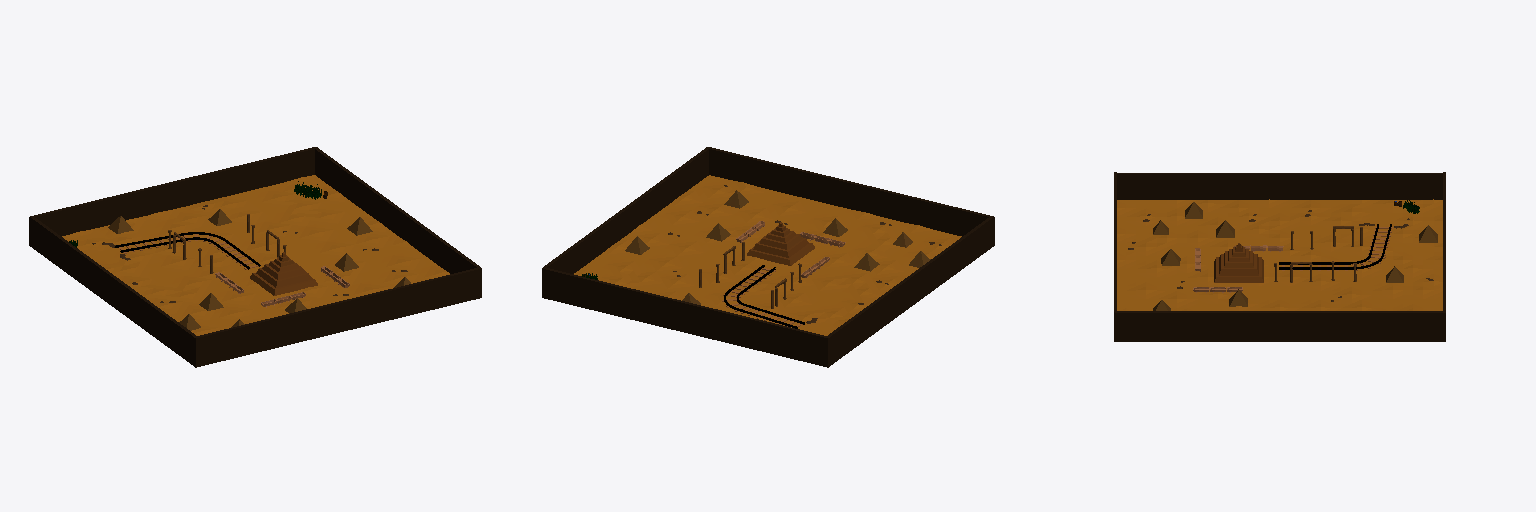
Rendered from Egypt_West.obj.
3 renders of one model, left to right at view 1: azimuth 30°, elevation 25°; view 2: azimuth 150°, elevation 25°; view 3: azimuth 270°, elevation 25°, orthographic.
Parts seen in each view (by area): view 1: Plane.001, Cube_145_001_Cube.000, Cube_145_Cube.034, Cube_145_002_Cube.035, Cube_145_003_Cube.036, Cube_042_Cube.028; view 2: Plane.001, Cube_145_Cube.034, Cube_145_001_Cube.000, Cube_145_002_Cube.035, Cube_145_003_Cube.036, Cube_042_Cube.028; view 3: Plane.001, Cube_145_003_Cube.036, Cube_145_002_Cube.035, Cube_042_Cube.028.
Part boxes in pixels (x1,y1,x2,y2): Plane.001: (62,175,449,335); Cube_145_001_Cube.000: (194,268,481,367); Cube_145_Cube.034: (29,147,314,246); Cube_145_002_Cube.035: (31,216,197,365); Cube_145_003_Cube.036: (314,147,480,273); Cube_042_Cube.028: (250,272,317,295); Plane.001: (574,175,961,335); Cube_145_Cube.034: (542,267,829,367); Cube_145_001_Cube.000: (707,147,994,246); Cube_145_002_Cube.035: (826,217,992,365); Cube_145_003_Cube.036: (544,147,708,273); Cube_042_Cube.028: (747,242,814,265); Plane.001: (1117,199,1442,310); Cube_145_003_Cube.036: (1115,311,1445,341); Cube_145_002_Cube.035: (1115,173,1445,199); Cube_042_Cube.028: (1214,257,1263,282).
Bounding box in the file's own units: 502 × 54.09 × 505.